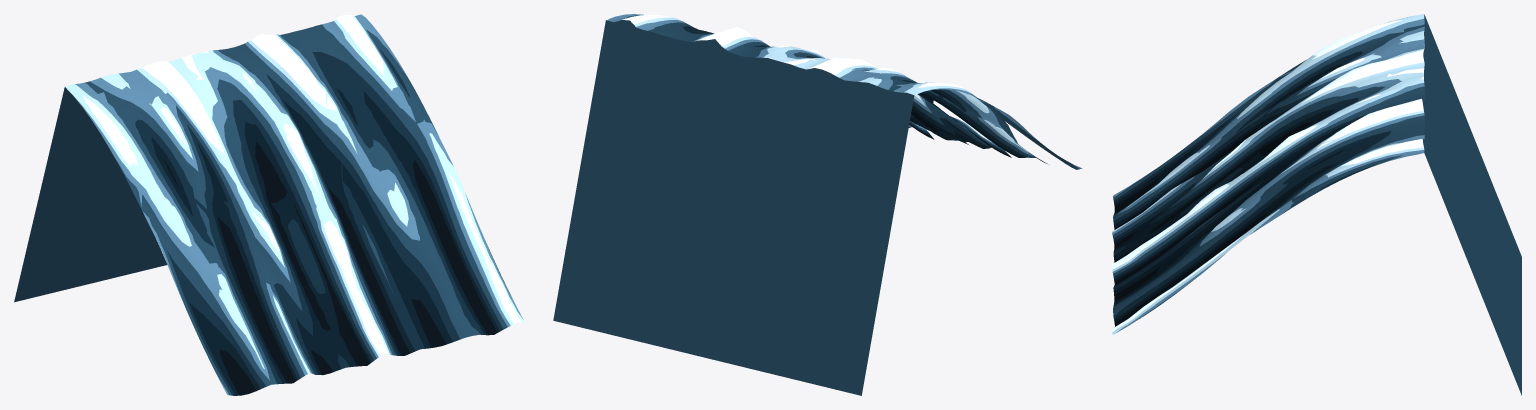
File: torm_fall_tm_129.glb
The picture shows the model from 3 angles, left to right: view 1: azimuth 30°, elevation 25°; view 2: azimuth 150°, elevation 25°; view 3: azimuth 270°, elevation 25°; orthographic projection. The views are drawn at different scales.
Visible parts, largest first — view 1: torm_fall_tm_129; view 2: torm_fall_tm_129; view 3: torm_fall_tm_129.
Boxes of the visible parts, x1=… form: torm_fall_tm_129: x1=14, y1=14, x2=524, y2=395; torm_fall_tm_129: x1=553, y1=14, x2=1082, y2=395; torm_fall_tm_129: x1=1111, y1=14, x2=1521, y2=395.
Bounding box in the file's own units: 24 × 19.97 × 29.89.
